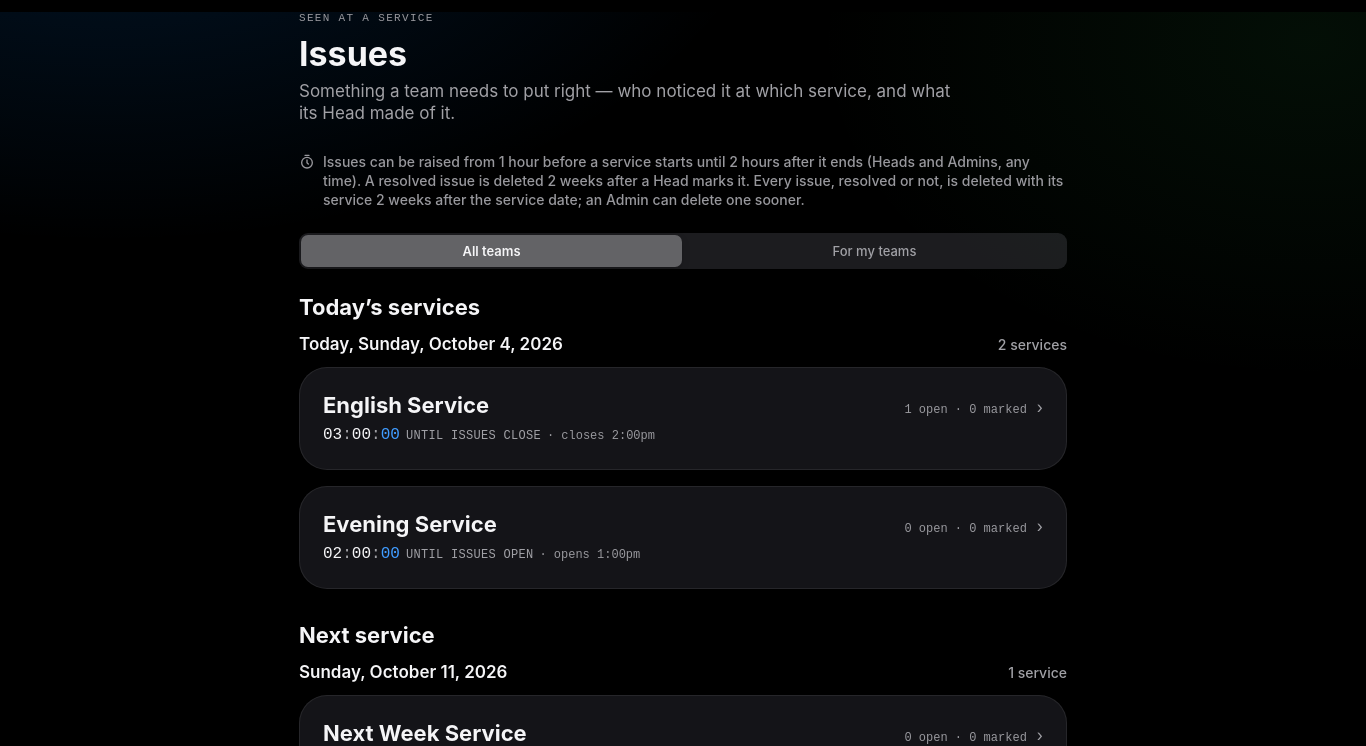
Scenario: the Issues page › keeps each service shut until it is opened
Check: the text "1 open · 0 marked" is shown, box x1=904 y1=402 x2=1027 y2=418
Check: the text "Mic 2 crackles" is not shown
Click the button "English Service 1 open · 0 marked ›" at coordinates (406, 405), box x1=323 y1=391 x2=1043 y2=419
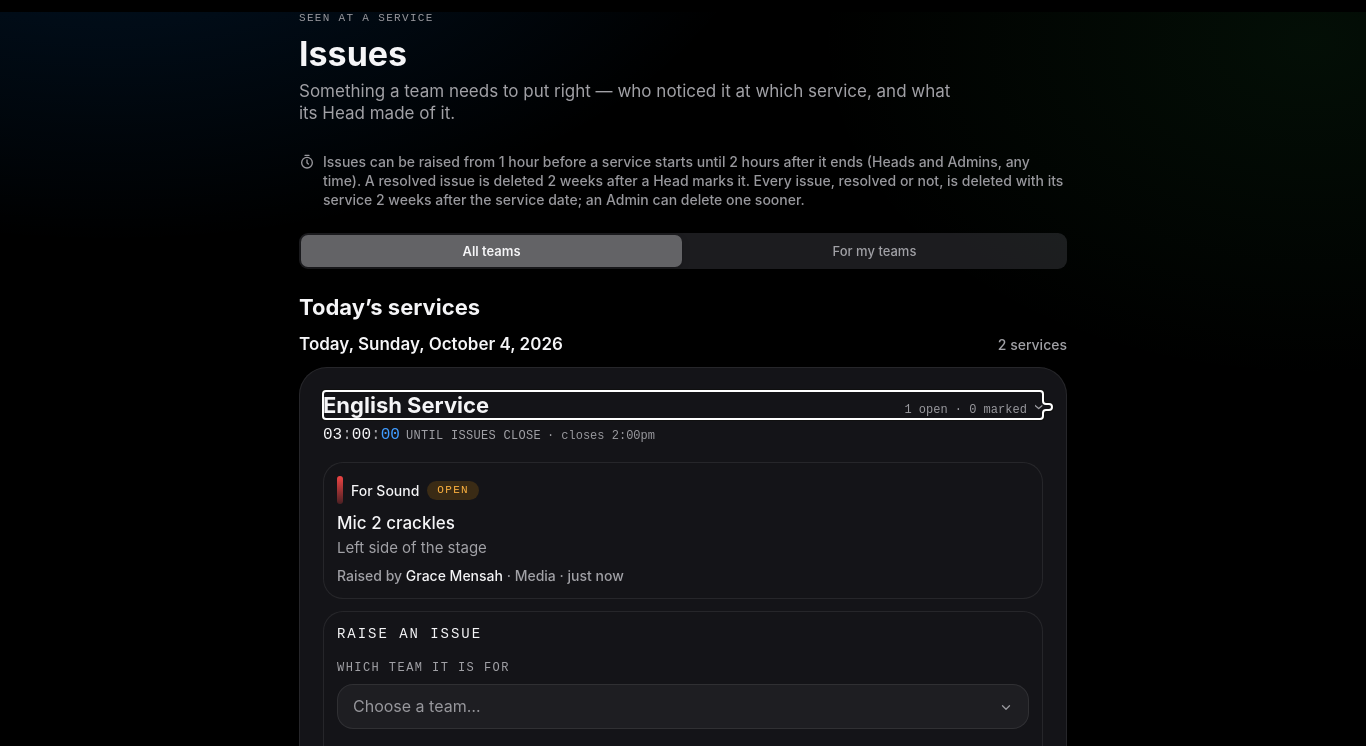
Check: the heading "Mic 2 crackles" is shown, box x1=337 y1=513 x2=455 y2=533
Check: the text "Raised by Grace Mensah · Media · just now" is shown, box x1=337 y1=567 x2=624 y2=584
Check: the text "For Sound" is shown, box x1=337 y1=476 x2=419 y2=504
